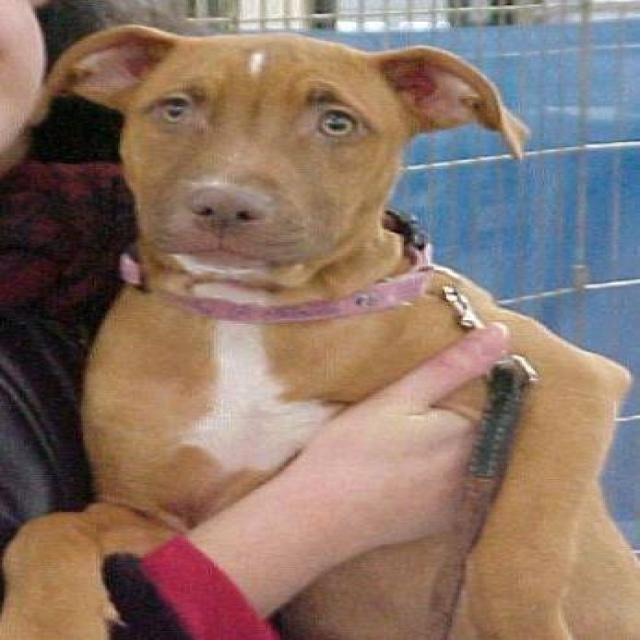relax: (37, 7, 640, 640)
